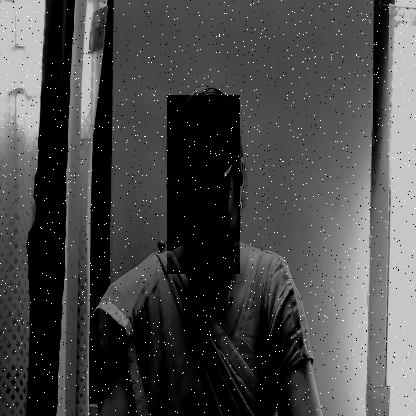Normal: (167, 95, 240, 274)
